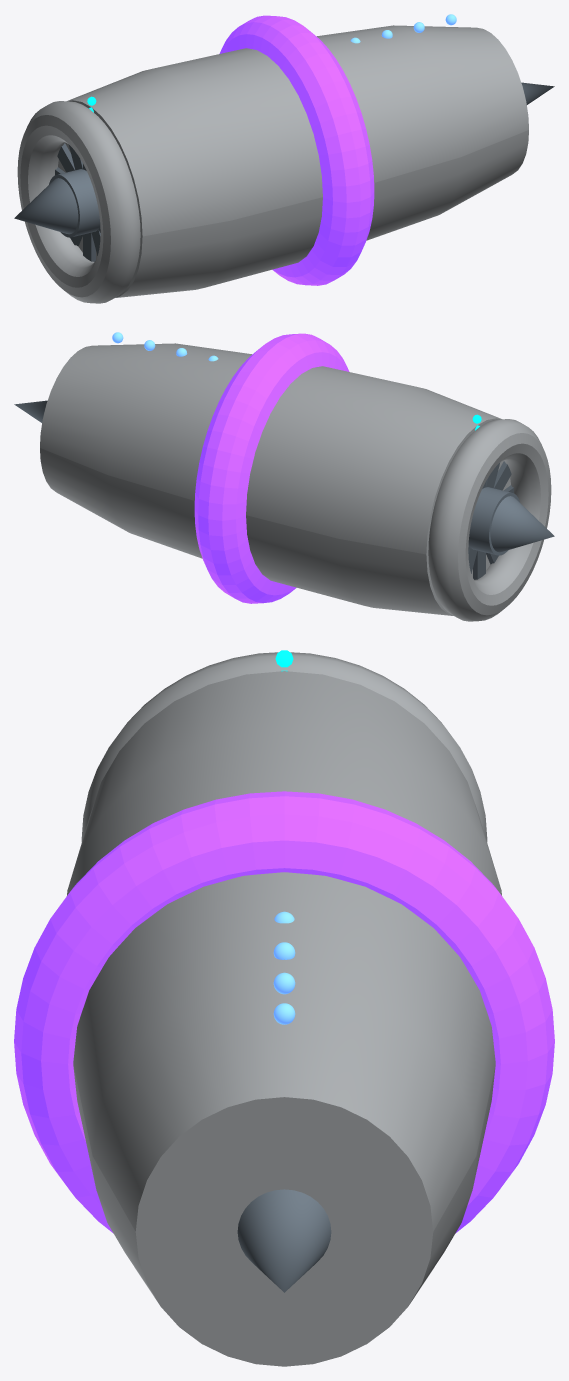
Rendered from AEROTWIN_Engine.glb.
The picture shows the model from 3 angles, top to bottom: view 1: azimuth 30°, elevation 25°; view 2: azimuth 150°, elevation 25°; view 3: azimuth 270°, elevation 25°; orthographic projection. The views are drawn at different scales.
Parts seen in each view (by area): view 1: Outer_Nacelle_Full, Outer_Nacelle_Cutaway_Final, Vibration_Aura_Ring, Intake_Ring, Nose_Cone, Fan_Hub, Fan_Blades, Exhaust_Cone; view 2: Outer_Nacelle_Full, Outer_Nacelle_Cutaway_Final, Vibration_Aura_Ring, Intake_Ring, Nose_Cone, Fan_Hub, Fan_Blades, Exhaust_Cone; view 3: Outer_Nacelle_Full, Vibration_Aura_Ring, Intake_Ring, Exhaust_Cone, Outer_Nacelle_Cutaway_Final.
Boxes of the visible parts, bbox=[...] form: Outer_Nacelle_Full: bbox=[58, 25, 528, 297]; Outer_Nacelle_Cutaway_Final: bbox=[115, 130, 528, 297]; Vibration_Aura_Ring: bbox=[219, 15, 374, 285]; Intake_Ring: bbox=[17, 101, 140, 303]; Nose_Cone: bbox=[14, 178, 78, 234]; Fan_Hub: bbox=[49, 169, 100, 237]; Fan_Blades: bbox=[55, 143, 100, 261]; Exhaust_Cone: bbox=[521, 82, 554, 104]; Outer_Nacelle_Full: bbox=[40, 343, 510, 615]; Outer_Nacelle_Cutaway_Final: bbox=[40, 448, 453, 615]; Vibration_Aura_Ring: bbox=[194, 333, 349, 603]; Intake_Ring: bbox=[428, 419, 551, 621]; Nose_Cone: bbox=[490, 496, 554, 552]; Fan_Hub: bbox=[468, 487, 519, 555]; Fan_Blades: bbox=[468, 461, 513, 579]; Exhaust_Cone: bbox=[14, 400, 47, 422]; Outer_Nacelle_Full: bbox=[67, 671, 501, 1366]; Vibration_Aura_Ring: bbox=[14, 791, 554, 1233]; Intake_Ring: bbox=[81, 652, 487, 841]; Exhaust_Cone: bbox=[237, 1189, 331, 1292]; Outer_Nacelle_Cutaway_Final: bbox=[73, 1065, 495, 1304].
Bounding box in the file's own units: 13.55 × 6 × 6.
